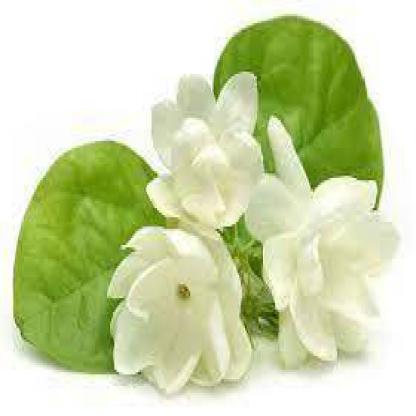Melati: (243, 112, 402, 373), (102, 186, 242, 385), (130, 38, 264, 218)
